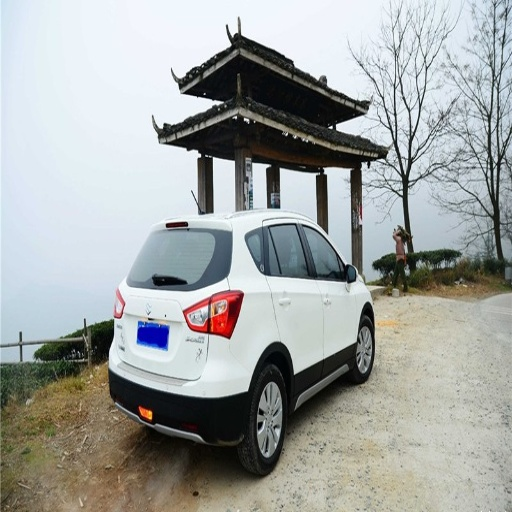back_bumper: (108, 327, 257, 445)
back_right_door: (264, 219, 323, 393)
tailgate: (121, 285, 203, 345)
trunk: (115, 288, 216, 376)
